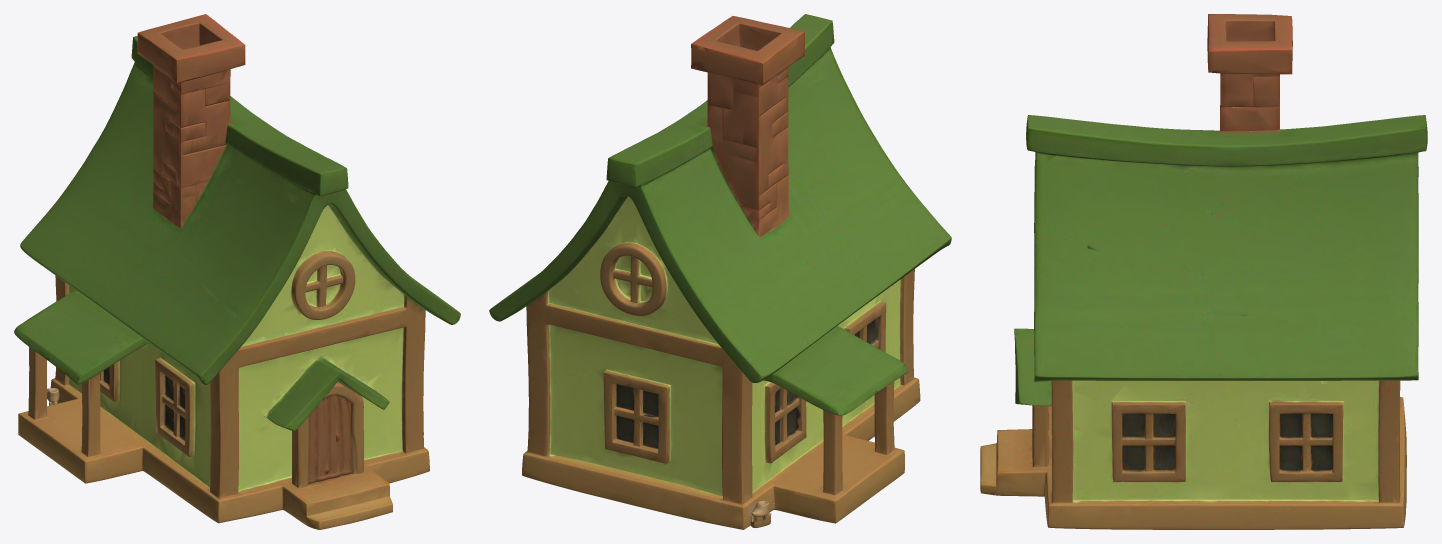
The model's file is AH_ENV_CottageTimber_Soft_LOD2_phone.glb.
3 renders of one model, left to right at view 1: azimuth 30°, elevation 25°; view 2: azimuth 150°, elevation 25°; view 3: azimuth 270°, elevation 25°, orthographic. The views are drawn at different scales.
Parts seen in each view (by area): view 1: tripo_node_3f3ccc38-b5d9-4f5f-972d-f2031947ce98; view 2: tripo_node_3f3ccc38-b5d9-4f5f-972d-f2031947ce98; view 3: tripo_node_3f3ccc38-b5d9-4f5f-972d-f2031947ce98.
Boxes of the visible parts, <box> form: tripo_node_3f3ccc38-b5d9-4f5f-972d-f2031947ce98: <box>14,14,460,529</box>; tripo_node_3f3ccc38-b5d9-4f5f-972d-f2031947ce98: <box>489,14,951,529</box>; tripo_node_3f3ccc38-b5d9-4f5f-972d-f2031947ce98: <box>980,14,1427,529</box>.
Size of the model in its own units: 0.7706 by 0.9801 by 0.9305.
Materials: 1 (1 with a texture image).
